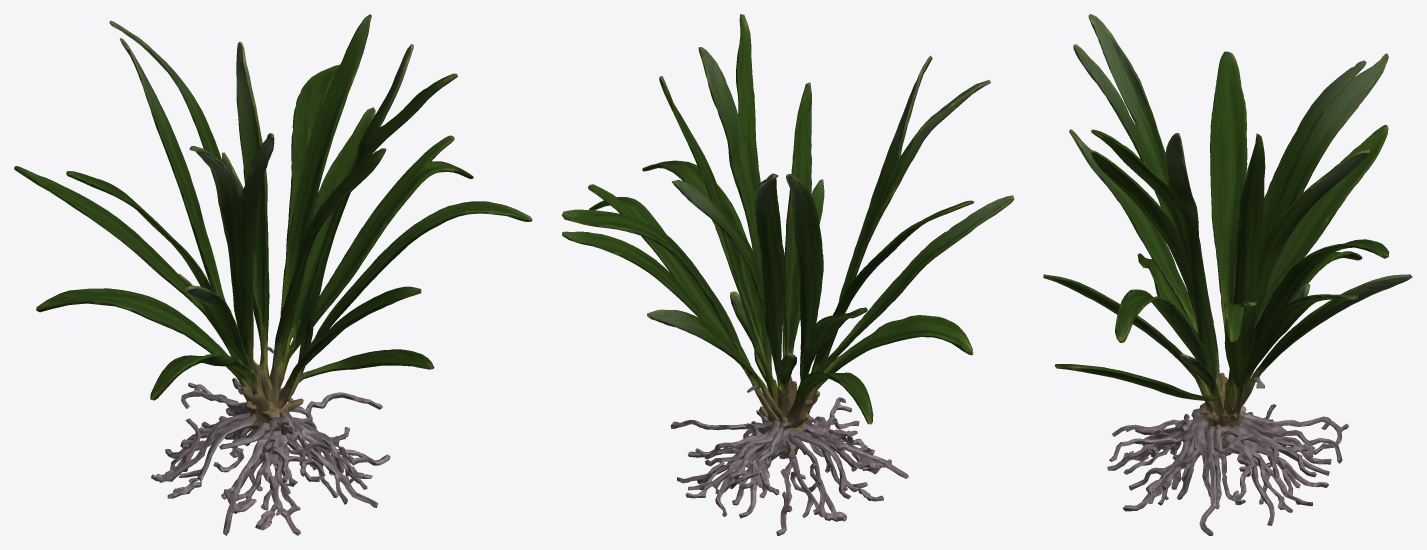
File: grass_clump.glb
3 renders of one model, left to right at view 1: azimuth 30°, elevation 25°; view 2: azimuth 150°, elevation 25°; view 3: azimuth 270°, elevation 25°, orthographic. The views are drawn at different scales.
Visible parts, largest first — view 1: world; view 2: world; view 3: world.
Part boxes in pixels (x1,y1,x2,y2): world: [14, 14, 532, 535]; world: [561, 14, 1014, 535]; world: [1043, 14, 1412, 535].
Bounding box in the file's own units: 0.5176 × 0.52 × 0.4237.
Materials: 1 (1 with a texture image).
